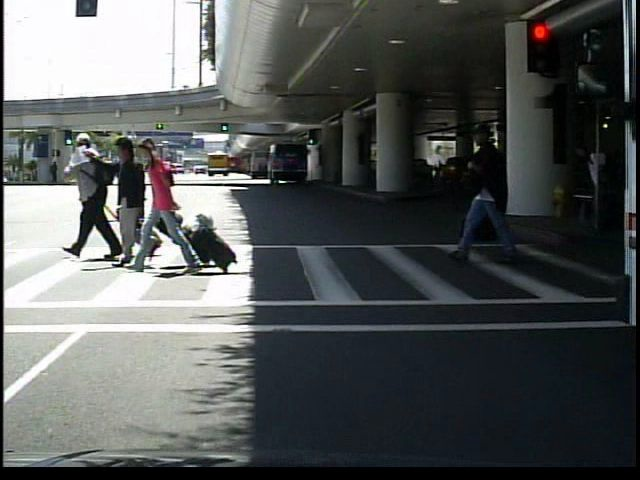person: (451, 114, 525, 265)
